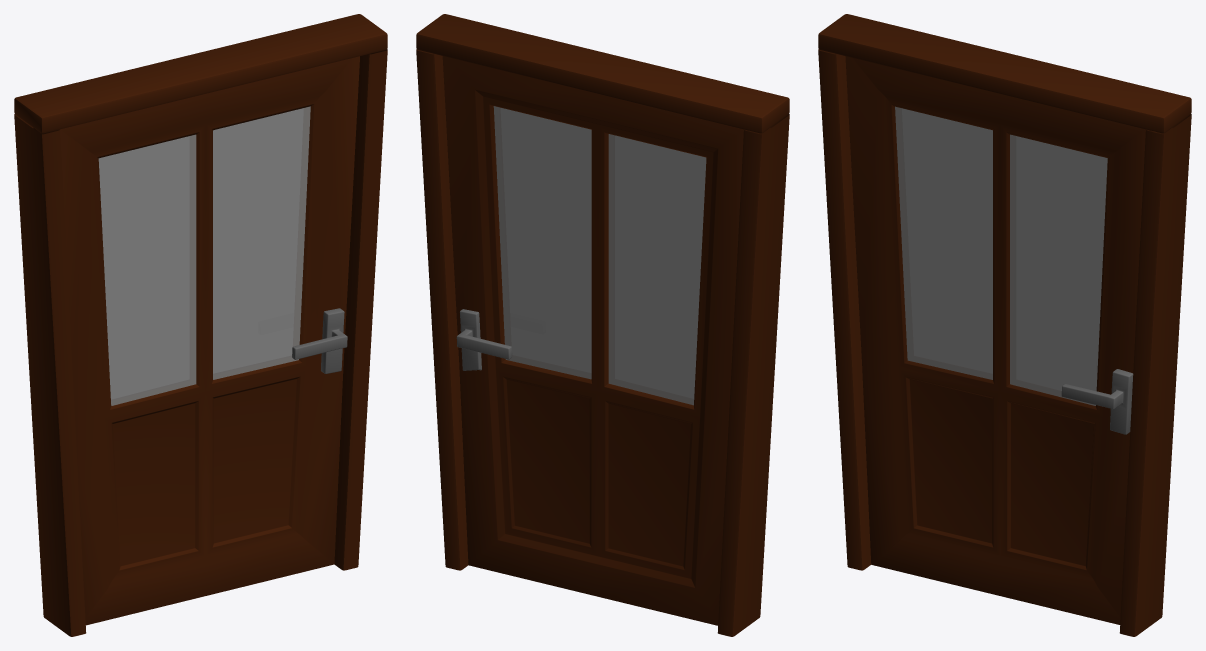
File: Main_Front_Door.fbx
3 renders of one model, left to right at view 1: azimuth 30°, elevation 25°; view 2: azimuth 150°, elevation 25°; view 3: azimuth 330°, elevation 25°, orthographic.
Parts seen in each view (by area): view 1: Door, DoorFrame; view 2: Door, DoorFrame; view 3: Door, DoorFrame.
Part boxes in pixels (x1,y1,x2,y2): Door: (60,56,359,625); DoorFrame: (14,14,387,636); Door: (442,56,743,625); DoorFrame: (416,14,789,636); Door: (845,56,1156,624); DoorFrame: (818,14,1191,636).
Size of the model in its own units: 56.11 by 81.34 by 10.5.
